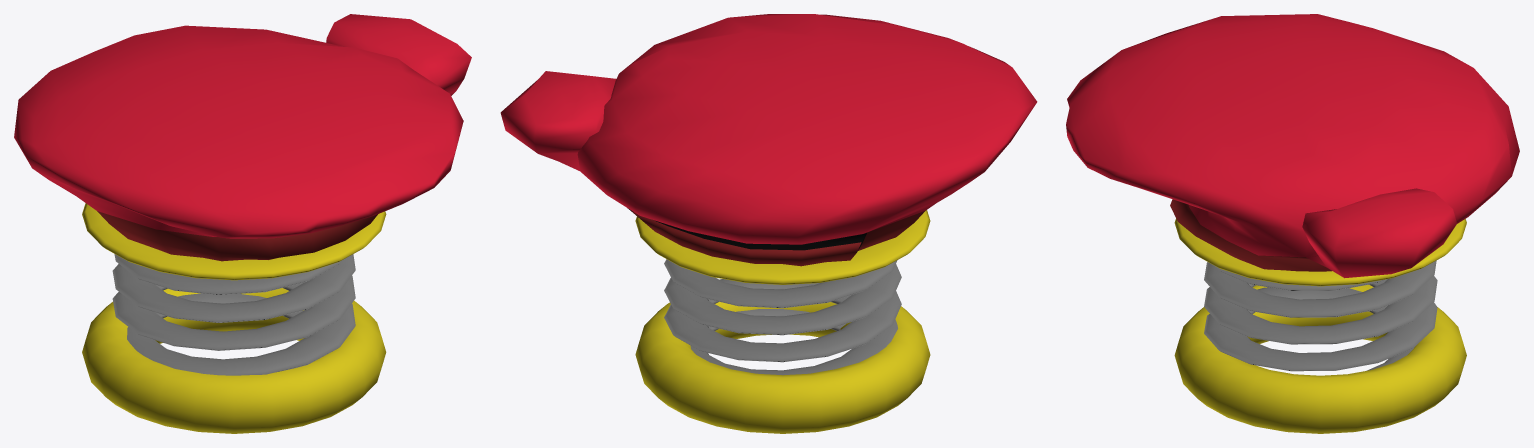
Rendered from Lane-Kick.fbx.
3 renders of one model, left to right at view 1: azimuth 30°, elevation 25°; view 2: azimuth 150°, elevation 25°; view 3: azimuth 270°, elevation 25°, orthographic. The views are drawn at different scales.
Visible parts, largest first — view 1: Glove, Lane_Kick, Spring, Ring_End; view 2: Glove, Lane_Kick, Spring, Ring_End; view 3: Glove, Lane_Kick, Spring, Ring_End.
Part boxes in pixels (left/top/right/bottom): Glove: left=14, top=14, right=471, bottom=261; Lane_Kick: left=82, top=288, right=386, bottom=433; Spring: left=112, top=254, right=355, bottom=375; Ring_End: left=82, top=203, right=386, bottom=280; Glove: left=500, top=14, right=1037, bottom=266; Lane_Kick: left=635, top=301, right=930, bottom=433; Spring: left=664, top=259, right=901, bottom=375; Ring_End: left=635, top=210, right=930, bottom=284; Glove: left=1066, top=14, right=1519, bottom=278; Lane_Kick: left=1174, top=284, right=1466, bottom=433; Spring: left=1204, top=260, right=1437, bottom=371; Ring_End: left=1174, top=218, right=1466, bottom=286.
Bounding box in the file's own units: 4.31 × 2.78 × 3.88.
